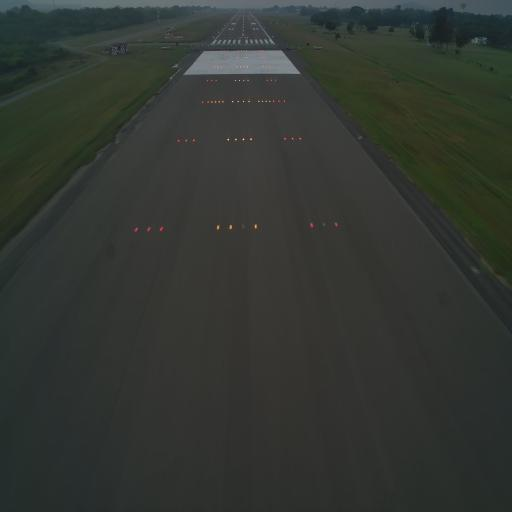off: (468, 260, 481, 280), (322, 220, 328, 229), (357, 134, 363, 142), (241, 222, 246, 230), (115, 140, 120, 145)
on: (133, 224, 140, 234), (214, 223, 220, 232), (146, 224, 151, 234), (228, 223, 233, 233), (253, 221, 258, 231), (309, 220, 314, 229), (160, 224, 164, 234), (291, 134, 295, 144), (334, 220, 338, 229), (283, 134, 287, 143), (176, 137, 181, 144), (184, 137, 188, 145), (226, 135, 230, 143), (250, 136, 254, 144), (192, 138, 196, 145), (298, 134, 302, 141), (234, 136, 238, 142), (242, 136, 245, 144)
